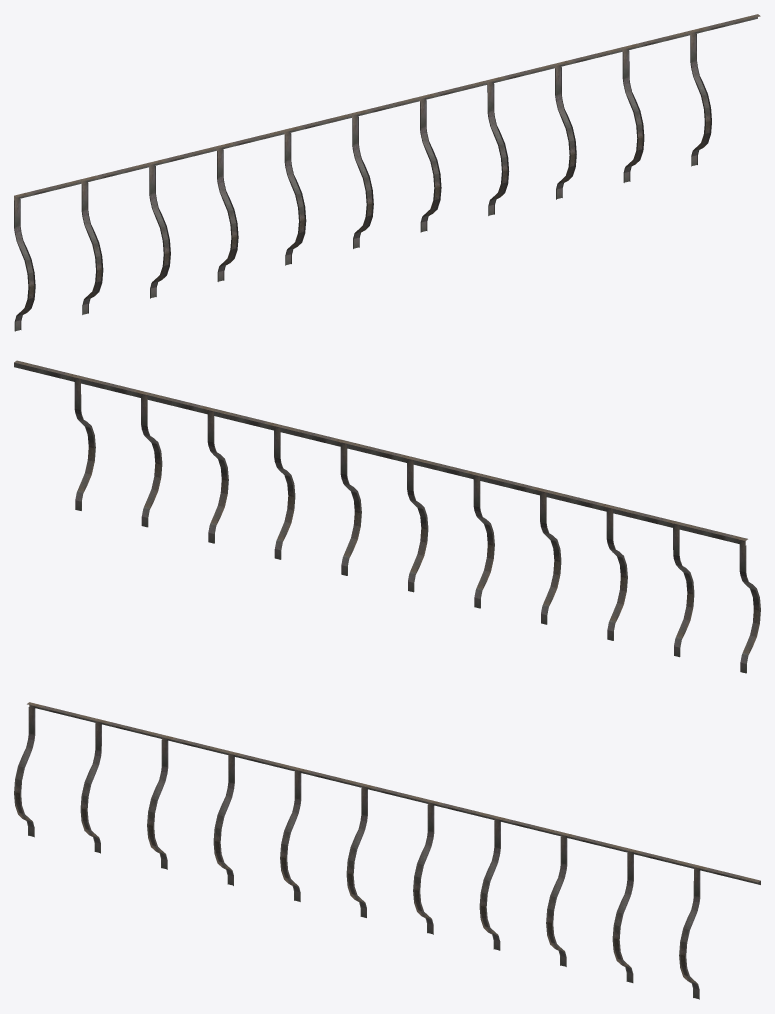
The model's file is BalconeeRail.fbx.
The picture shows the model from 3 angles, top to bottom: view 1: azimuth 30°, elevation 25°; view 2: azimuth 150°, elevation 25°; view 3: azimuth 330°, elevation 25°; orthographic projection.
Parts seen in each view (by area): view 1: Cylinder; view 2: Cylinder; view 3: Cylinder.
Boxes of the visible parts, x1,y1,x2,y2 form: Cylinder: (14,14,760,331); Cylinder: (14,360,760,673); Cylinder: (14,702,760,999).
Size of the model in its own units: 285 by 49.46 by 10.37.
1 material, 1 textured.
